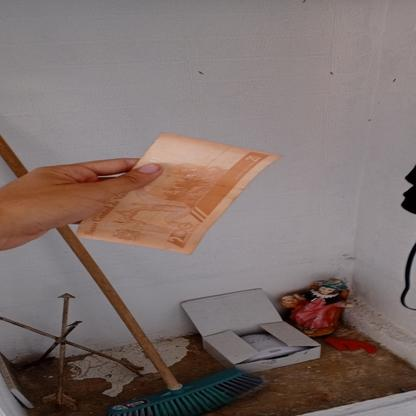vef_back: (74, 131, 282, 256)
